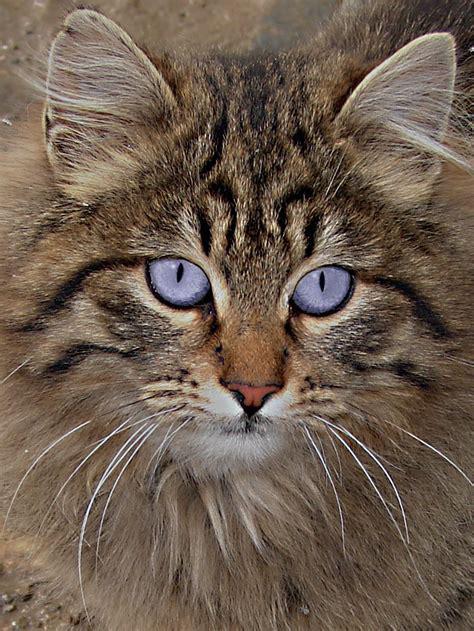cat: (1, 1, 474, 629)
